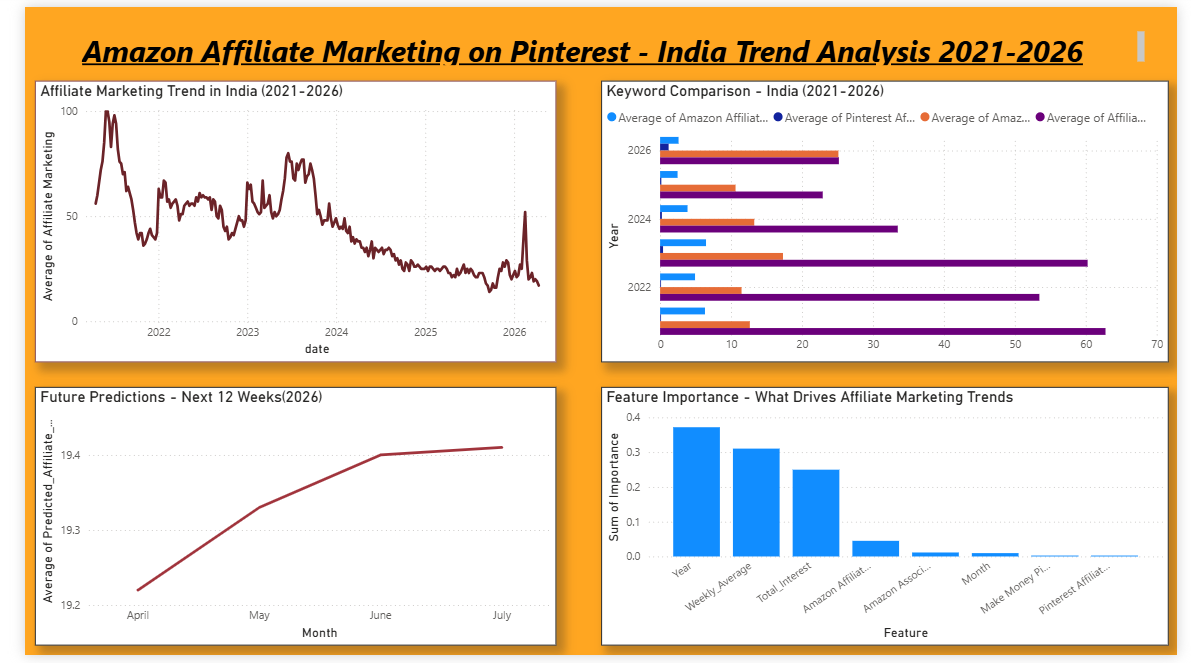

What the dashboard file says about the page in this screenshot:
{"tool":"powerbi","page":{"name":"Page 1","canvas":[1280,720],"ordinal":0},"visuals":[{"type":"lineChart","title":"Affiliate Marketing Trend in India (2021-2026)","fields":{"Y":["Avg(cleaned_trends_data.Affiliate Marketing)"],"Category":["cleaned_trends_data.date"]},"box":[11.1,81.9,579.2,312.5],"z":0},{"type":"clusteredBarChart","title":"Keyword Comparison - India (2021-2026)","fields":{"Category":["cleaned_trends_data.date.Variation.Date Hierarchy.Year","cleaned_trends_data.date.Variation.Date Hierarchy.Quarter","cleaned_trends_data.date.Variation.Date Hierarchy.Month","cleaned_trends_data.date.Variation.Date Hierarchy.Day"],"Y":["Avg(cleaned_trends_data.Amazon Affiliate Marketing)","Avg(cleaned_trends_data.Pinterest Affiliate Marketing)","Avg(cleaned_trends_data.Amazon Associates)","Avg(cleaned_trends_data.Affiliate Marketing)"]},"box":[640.3,81.9,630.6,312.5],"z":1},{"type":"lineChart","title":"Future Predictions - Next 12 Weeks(2026)","fields":{"Category":["future_predictions.Date.Variation.Date Hierarchy.Month"],"Y":["Avg(future_predictions.Predicted_Affiliate_Marketing_Score)"]},"box":[11.1,422.2,579.2,287.5],"z":2},{"type":"clusteredColumnChart","title":"Feature Importance - What Drives Affiliate Marketing Trends","fields":{"Category":["feature_importance.Feature"],"Y":["Sum(feature_importance.Importance)"]},"box":[640.3,422.2,630.6,287.5],"z":3},{"type":"textbox","box":[58.3,22.2,1190.3,47.2],"z":4}]}

Visuals, with their boxes in screenshot pixels (x1, y1, x2, y2), scaled from the page's 1280x720 canvas onto the 1191x663 screenshot:
"Affiliate Marketing Trend in India (2021-2026)" lineChart: 10 75 549 363
"Keyword Comparison - India (2021-2026)" clusteredBarChart: 596 75 1183 363
"Future Predictions - Next 12 Weeks(2026)" lineChart: 10 389 549 654
"Feature Importance - What Drives Affiliate Marketing Trends" clusteredColumnChart: 596 389 1183 654
textbox: 54 20 1162 64
